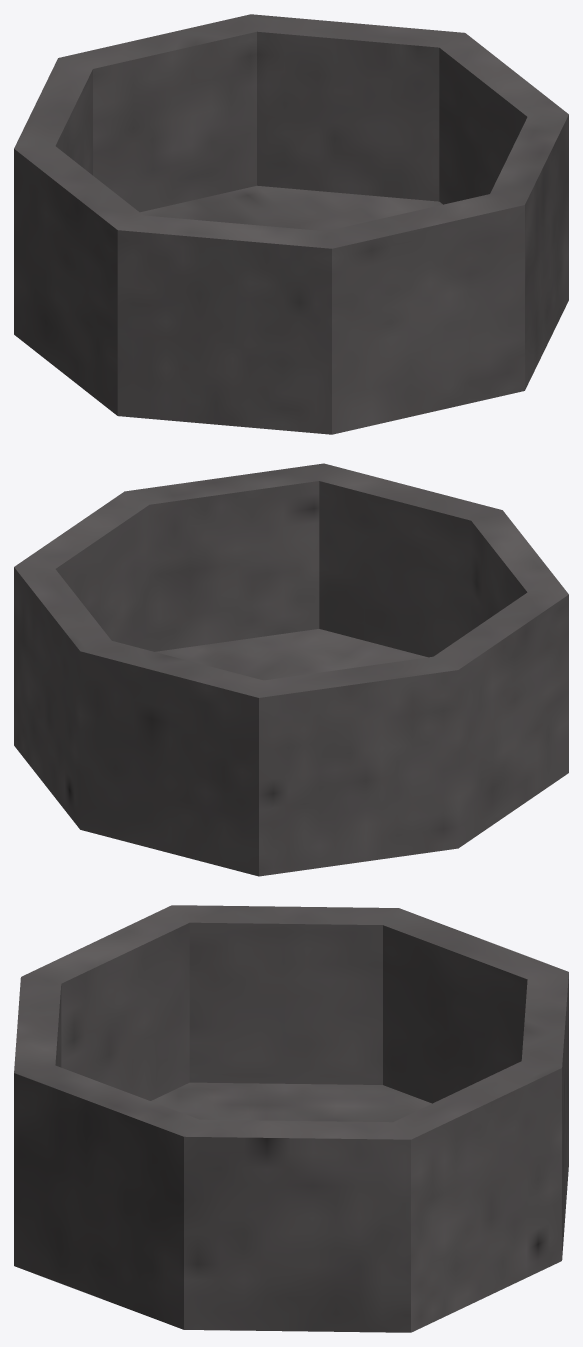
File: pozo_basic.obj
3 renders of one model, top to bottom at view 1: azimuth 30°, elevation 25°; view 2: azimuth 150°, elevation 25°; view 3: azimuth 270°, elevation 25°, orthographic. The views are drawn at different scales.
Parts seen in each view (by area): view 1: Cube.001; view 2: Cube.001; view 3: Cube.001.
Boxes of the visible parts, <box> form: Cube.001: <box>14,14,568,434</box>; Cube.001: <box>14,463,568,876</box>; Cube.001: <box>14,905,568,1332</box>.
Size of the model in its own units: 2.7 by 1.03 by 2.7.
Materials: 1 (1 with a texture image).
